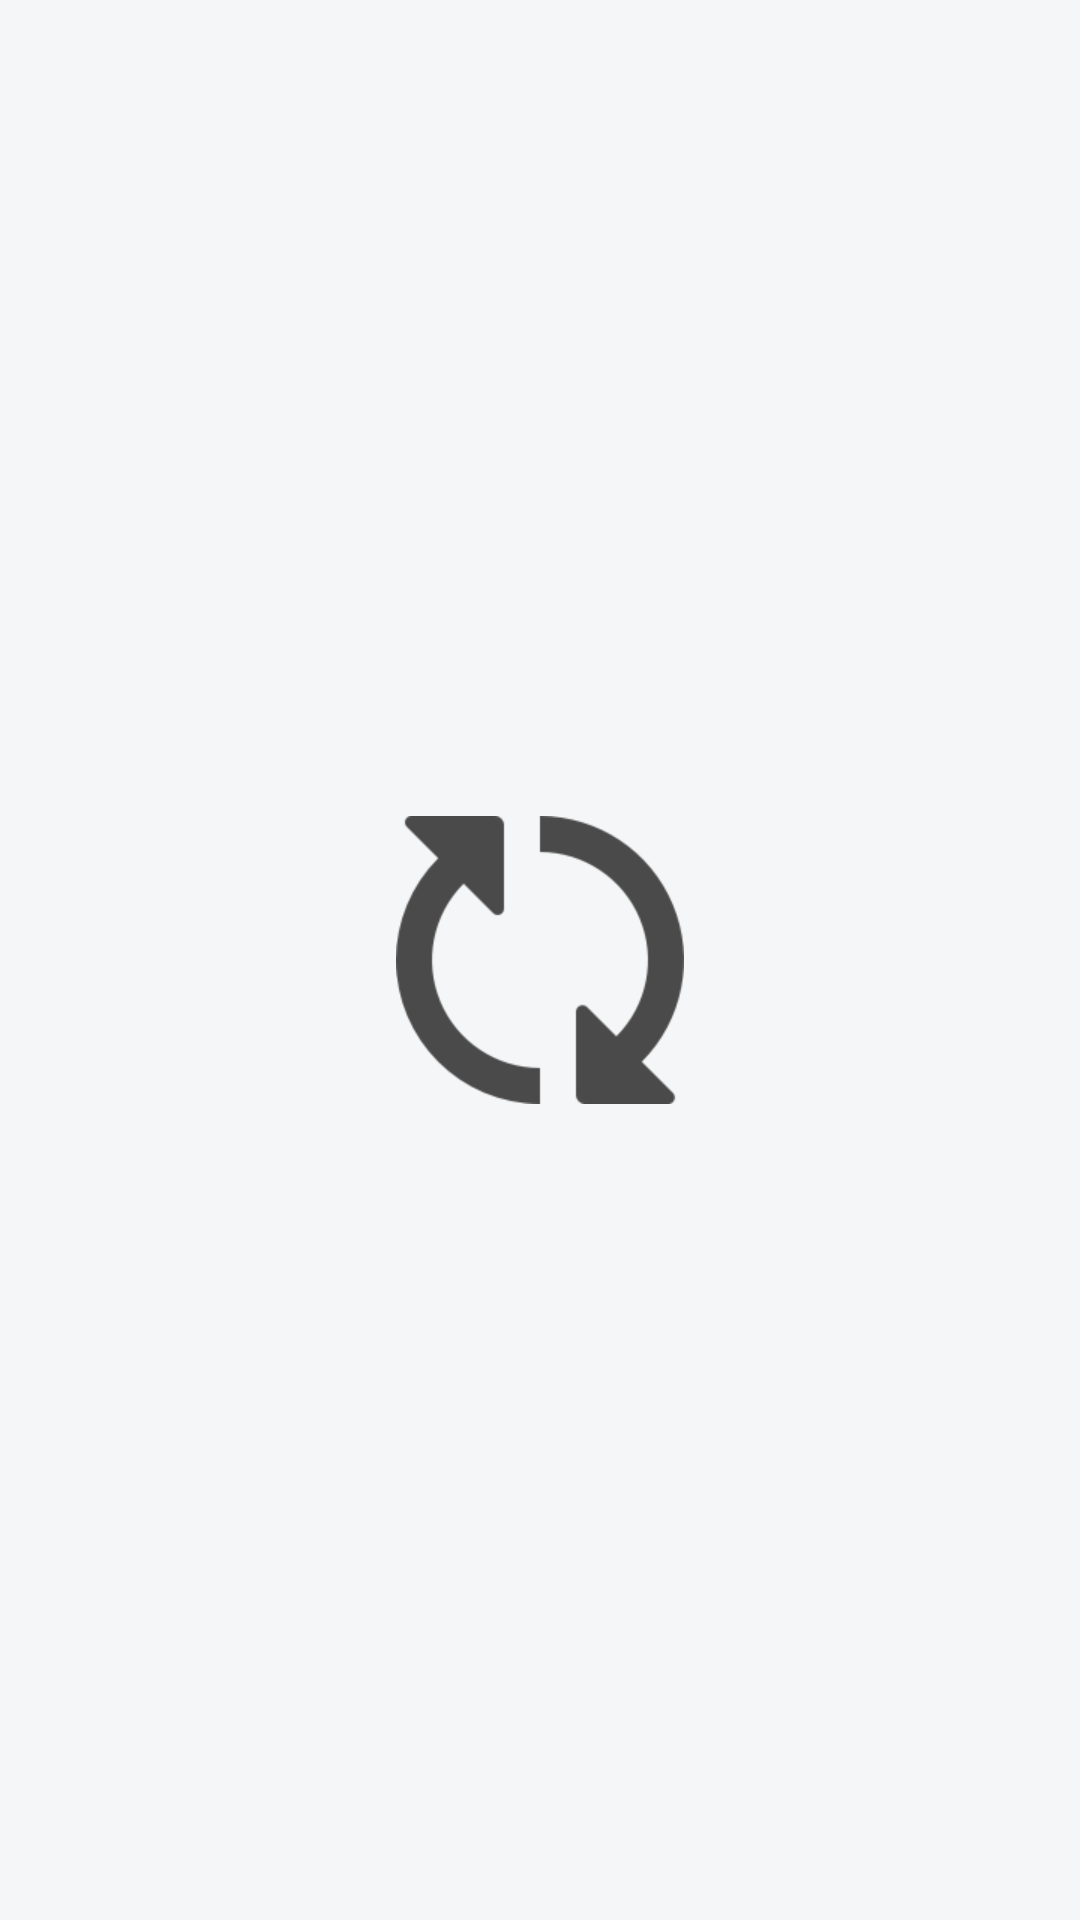

Icon bounding boxes for this 1080 x 1920 phone screenshot, format rect(x1, y1, x2, y2):
loading: rect(396, 816, 684, 1104)
